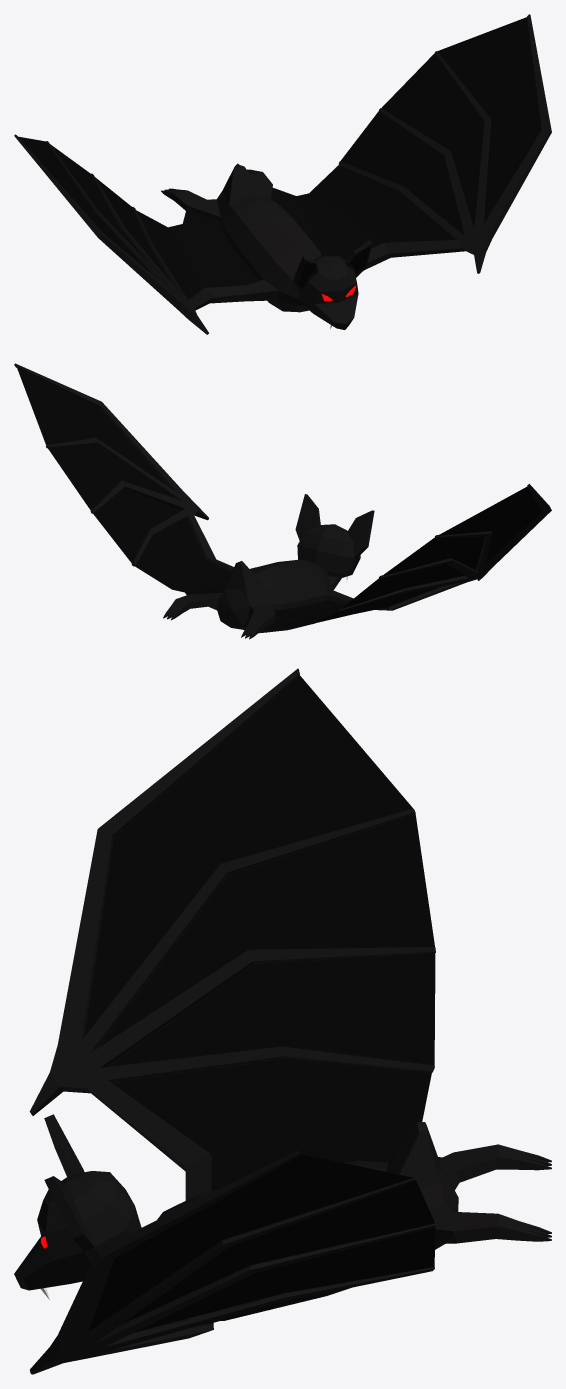
The model's file is Bat2.fbx.
3 renders of one model, top to bottom at view 1: azimuth 30°, elevation 25°; view 2: azimuth 150°, elevation 25°; view 3: azimuth 270°, elevation 25°, orthographic. The views are drawn at different scales.
Parts seen in each view (by area): view 1: Bat2; view 2: Bat2; view 3: Bat2.
Part boxes in pixels (x1,y1,x2,y2): Bat2: (14, 14, 551, 334); Bat2: (14, 363, 551, 639); Bat2: (14, 668, 551, 1374).
Bounding box in the file's own units: 31.81 × 15.25 × 12.89.
